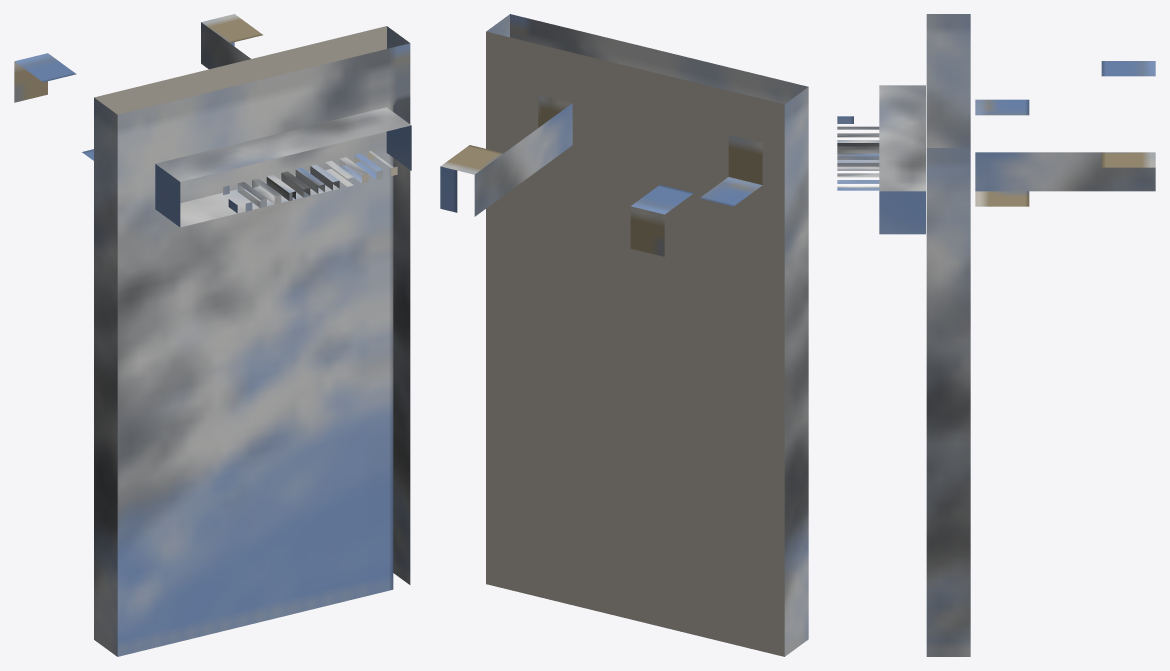
Rendered from section-2.obj.
3 views of the same model, side by side, from view 1: azimuth 30°, elevation 25°; view 2: azimuth 150°, elevation 25°; view 3: azimuth 270°, elevation 25° (orthographic). The views are drawn at different scales.
Bounding box in the file's own units: 0.524 × 0.927 × 0.526.
